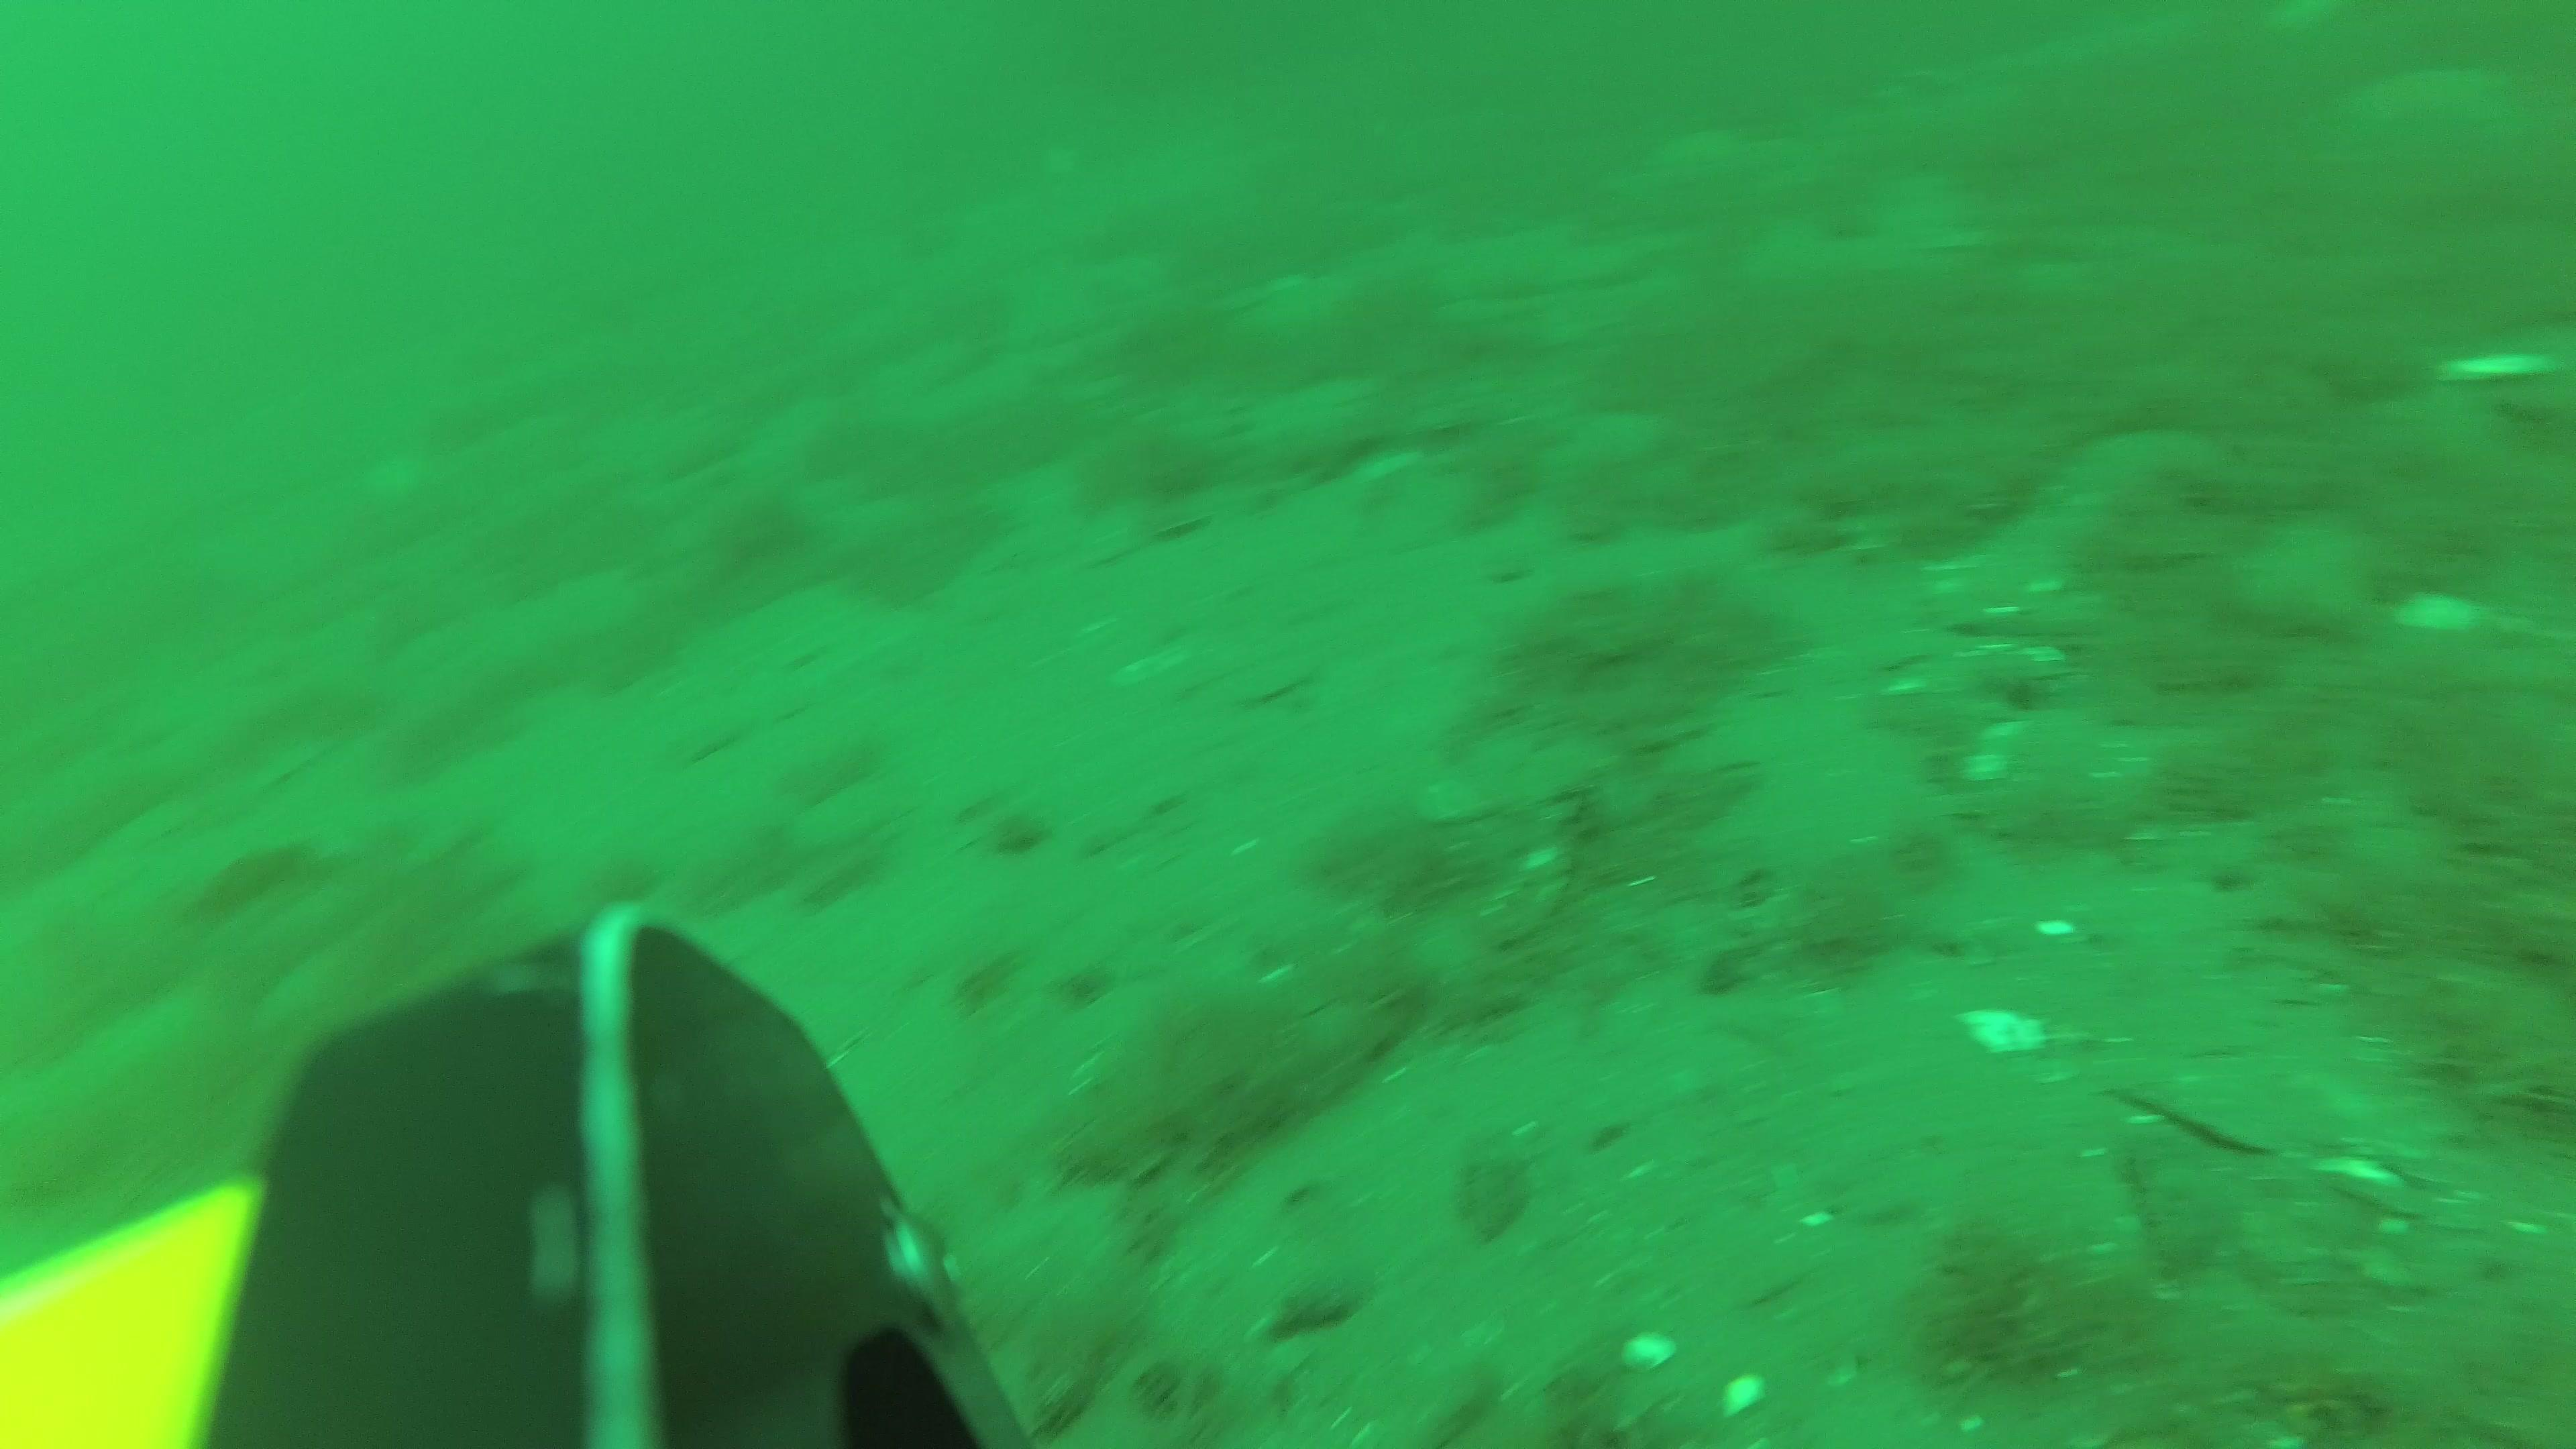starfish: (2360, 58, 2521, 152), (1622, 122, 1767, 207)
